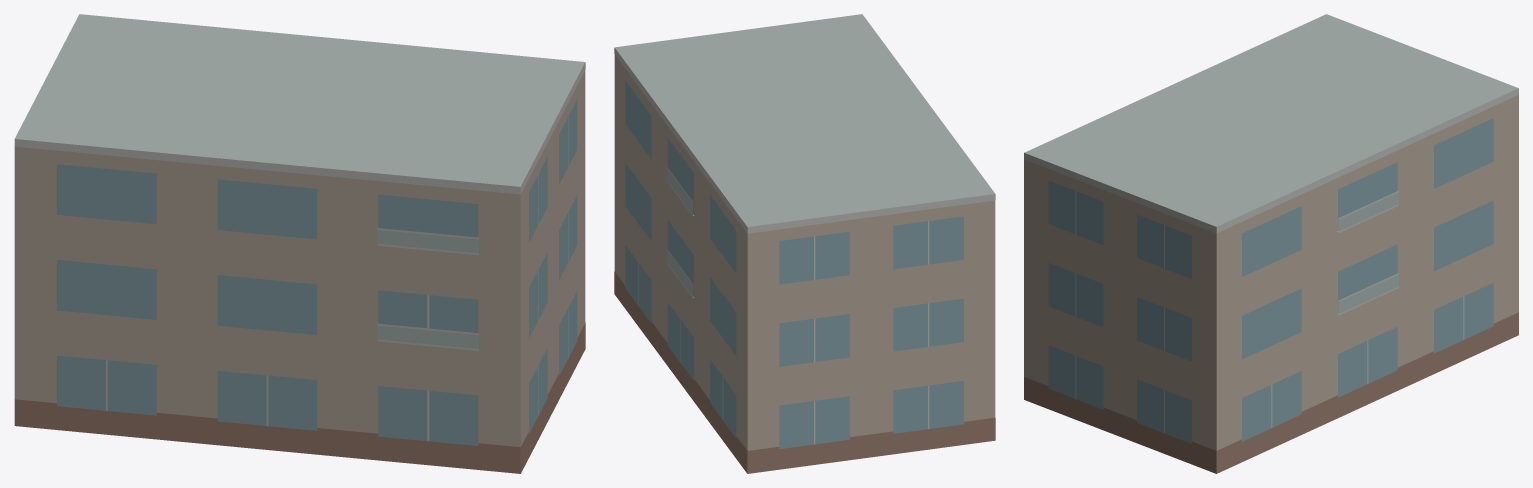
Rendered from survey-upis-32722092.glb.
The picture shows the model from 3 angles, left to right: view 1: azimuth 30°, elevation 25°; view 2: azimuth 150°, elevation 25°; view 3: azimuth 270°, elevation 25°; orthographic projection. The views are drawn at different scales.
Parts seen in each view (by area): view 1: survey-upis-32722092.tmp; view 2: survey-upis-32722092.tmp; view 3: survey-upis-32722092.tmp.
Part boxes in pixels (left/top/right/bottom): survey-upis-32722092.tmp: left=14, top=14, right=585, bottom=473; survey-upis-32722092.tmp: left=614, top=14, right=995, bottom=473; survey-upis-32722092.tmp: left=1024, top=14, right=1518, bottom=473.
Size of the model in its own units: 16.92 by 9.15 by 16.62.
